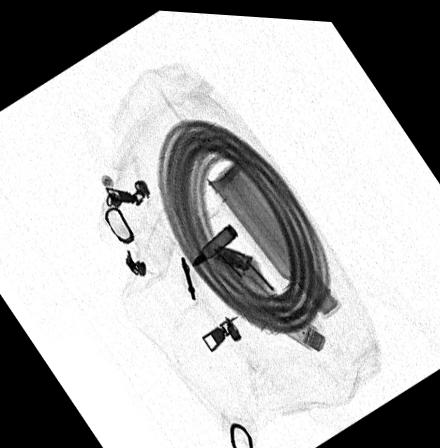Bullet: (190, 217, 237, 264)
